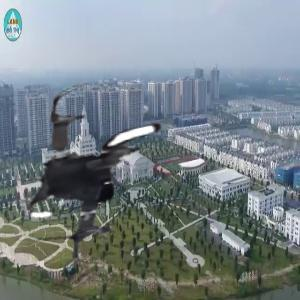drone: (5, 78, 200, 273)
